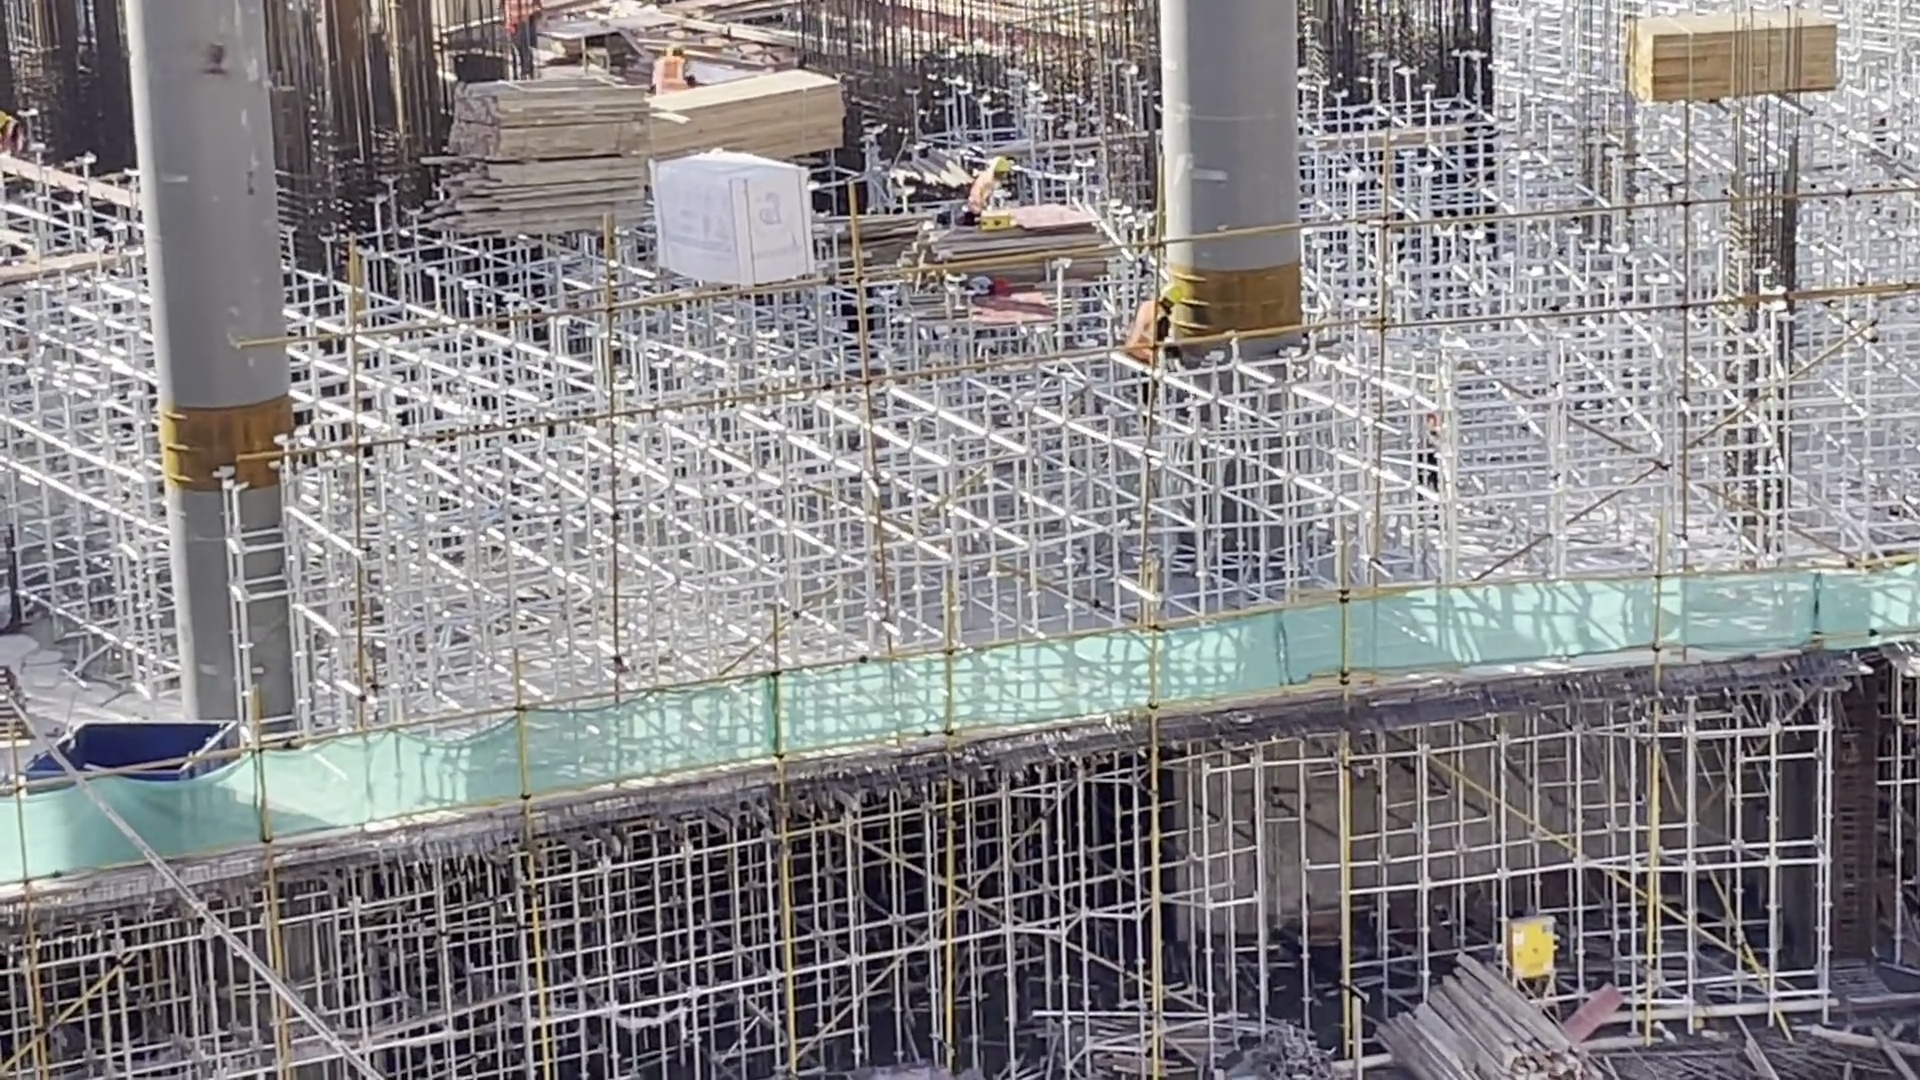board: (914, 201, 1123, 289)
ebox: (1508, 913, 1559, 986)
helmet: (1159, 284, 1183, 306), (989, 157, 1012, 173)
hopper: (15, 716, 243, 771)
person: (1130, 282, 1184, 364), (648, 42, 698, 95), (970, 156, 1011, 218)
vest: (1126, 299, 1168, 363), (649, 56, 689, 90), (968, 176, 999, 216)
wood: (425, 76, 649, 241), (1366, 949, 1596, 1080), (1622, 8, 1847, 105), (652, 65, 849, 157)
